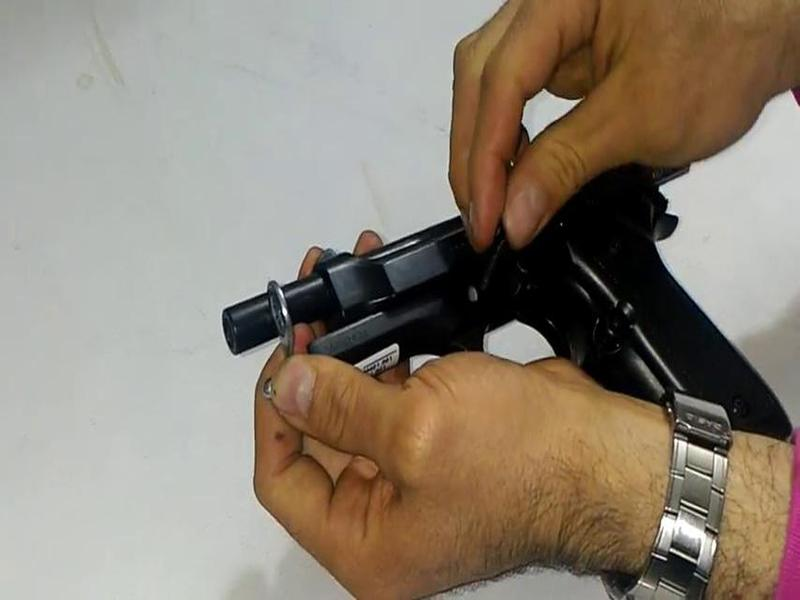Pistola: (204, 102, 800, 480)
